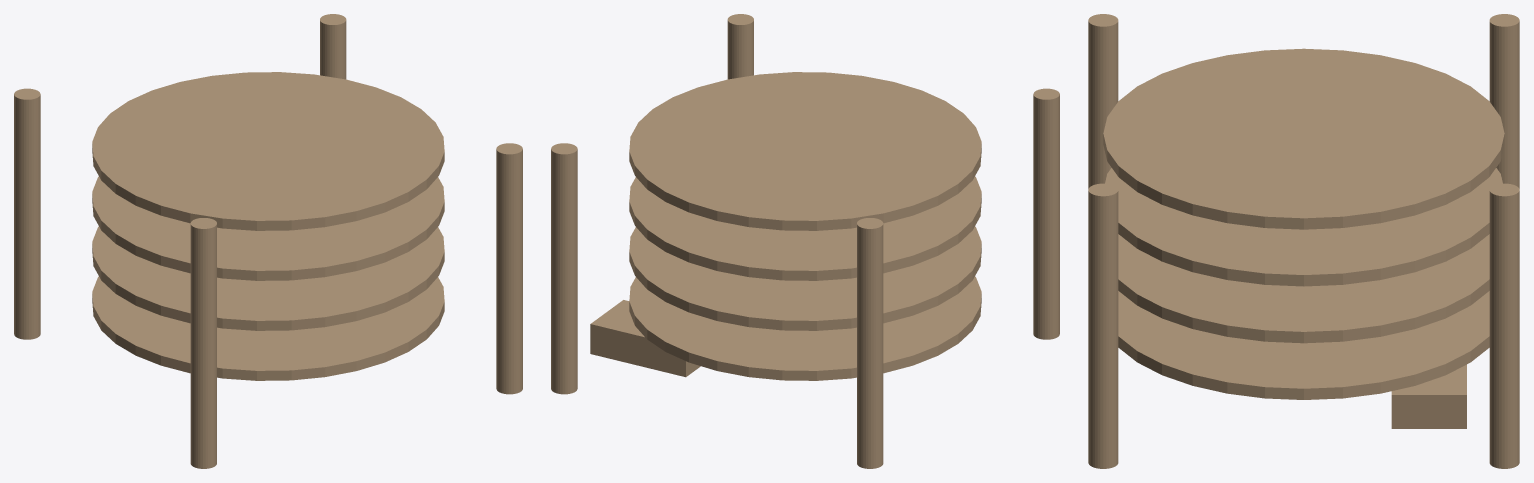
Rendered from paddock_set.glb.
3 views of the same model, side by side, from view 1: azimuth 30°, elevation 25°; view 2: azimuth 150°, elevation 25°; view 3: azimuth 270°, elevation 25° (orthographic). The views are drawn at different scales.
Visible parts, largest first — view 1: fence_rail_3, fence_rail_0, fence_rail_1, fence_rail_2, fence_post_0.8_-0.8, fence_post_-0.8_0.8, fence_post_-0.8_-0.8, fence_post_0.8_0.8; view 2: fence_rail_3, fence_rail_0, fence_rail_1, fence_rail_2, fence_post_0.8_0.8, fence_post_-0.8_-0.8, fence_post_-0.8_0.8, feed_trough, fence_post_0.8_-0.8; view 3: fence_rail_3, fence_rail_2, fence_rail_1, fence_rail_0, fence_post_0.8_0.8, fence_post_0.8_-0.8, fence_post_-0.8_0.8, fence_post_-0.8_-0.8, feed_trough.
Part boxes in pixels (x1=…): fence_rail_3: x1=92, y1=72, x2=444, y2=230; fence_rail_0: x1=92, y1=276, x2=444, y2=380; fence_rail_1: x1=92, y1=226, x2=444, y2=330; fence_rail_2: x1=92, y1=176, x2=444, y2=280; fence_post_0.8_-0.8: x1=496, y1=143, x2=522, y2=394; fence_post_-0.8_0.8: x1=14, y1=88, x2=40, y2=339; fence_post_-0.8_-0.8: x1=190, y1=218, x2=216, y2=468; fence_post_0.8_0.8: x1=320, y1=14, x2=346, y2=79; fence_rail_3: x1=629, y1=72, x2=981, y2=230; fence_rail_0: x1=629, y1=276, x2=981, y2=380; fence_rail_1: x1=629, y1=226, x2=981, y2=330; fence_rail_2: x1=629, y1=176, x2=981, y2=280; fence_post_0.8_0.8: x1=551, y1=143, x2=577, y2=394; fence_post_-0.8_-0.8: x1=1033, y1=88, x2=1059, y2=339; fence_post_-0.8_0.8: x1=857, y1=218, x2=883, y2=468; feed_trough: x1=590, y1=300, x2=700, y2=377; fence_post_0.8_-0.8: x1=727, y1=14, x2=753, y2=79; fence_rail_3: x1=1103, y1=48, x2=1504, y2=229; fence_rail_2: x1=1105, y1=168, x2=1502, y2=286; fence_rail_1: x1=1118, y1=234, x2=1489, y2=343; fence_rail_0: x1=1118, y1=291, x2=1489, y2=399; fence_post_0.8_0.8: x1=1489, y1=183, x2=1519, y2=468; fence_post_0.8_-0.8: x1=1088, y1=183, x2=1118, y2=468; fence_post_-0.8_0.8: x1=1489, y1=14, x2=1519, y2=188; fence_post_-0.8_-0.8: x1=1088, y1=14, x2=1118, y2=188; feed_trough: x1=1391, y1=364, x2=1466, y2=428.
Bounding box in the file's own units: 1.72 × 1.2 × 1.72.
